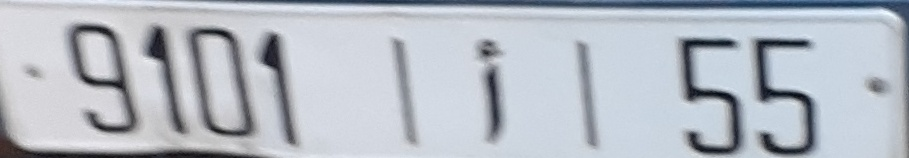0: (184, 22, 258, 143)
1: (252, 27, 304, 149), (141, 18, 190, 138)
5: (674, 32, 746, 156), (750, 36, 824, 155)
9: (61, 20, 140, 135)
a: (475, 31, 510, 143)
